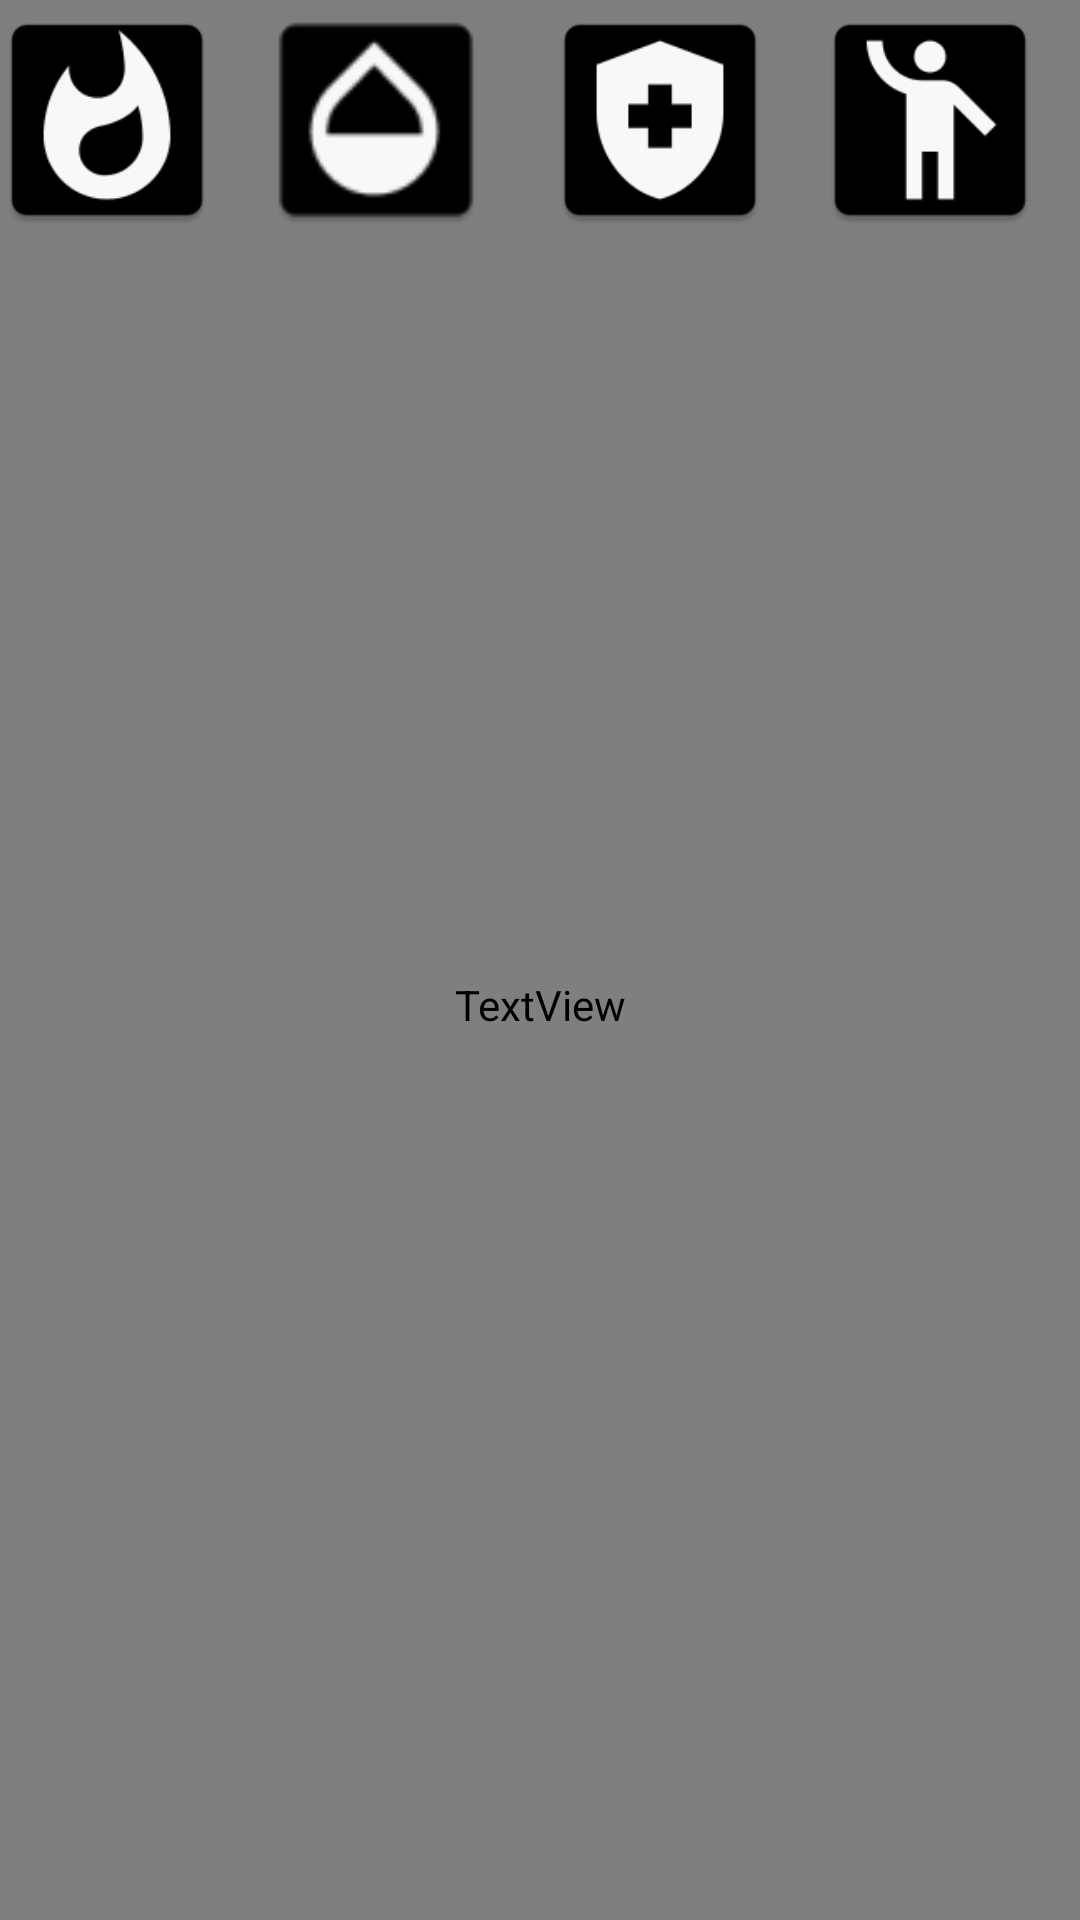

Icons on this 1080 × 1920 Android screen, each with the point to tap as [x,y]:
fonte: [376,120]
health: [660,120]
